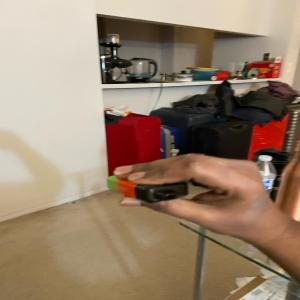Swift-E-Ciggirate: (103, 172, 190, 203)
